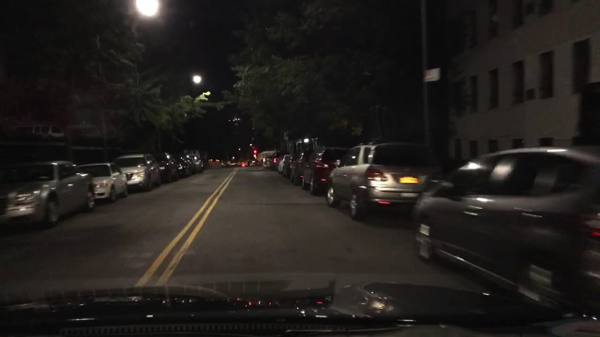car: (416, 146, 598, 309), (325, 140, 443, 221), (0, 161, 96, 228), (301, 147, 352, 196), (77, 162, 128, 202), (113, 153, 162, 189), (154, 151, 179, 182), (289, 155, 304, 186), (173, 154, 194, 176), (269, 151, 289, 170), (191, 154, 205, 173), (262, 151, 275, 169), (277, 155, 289, 172), (282, 155, 290, 177), (221, 161, 232, 168), (240, 162, 248, 167)
traffic light: (254, 149, 257, 154)
traffic sign: (425, 69, 439, 81)
